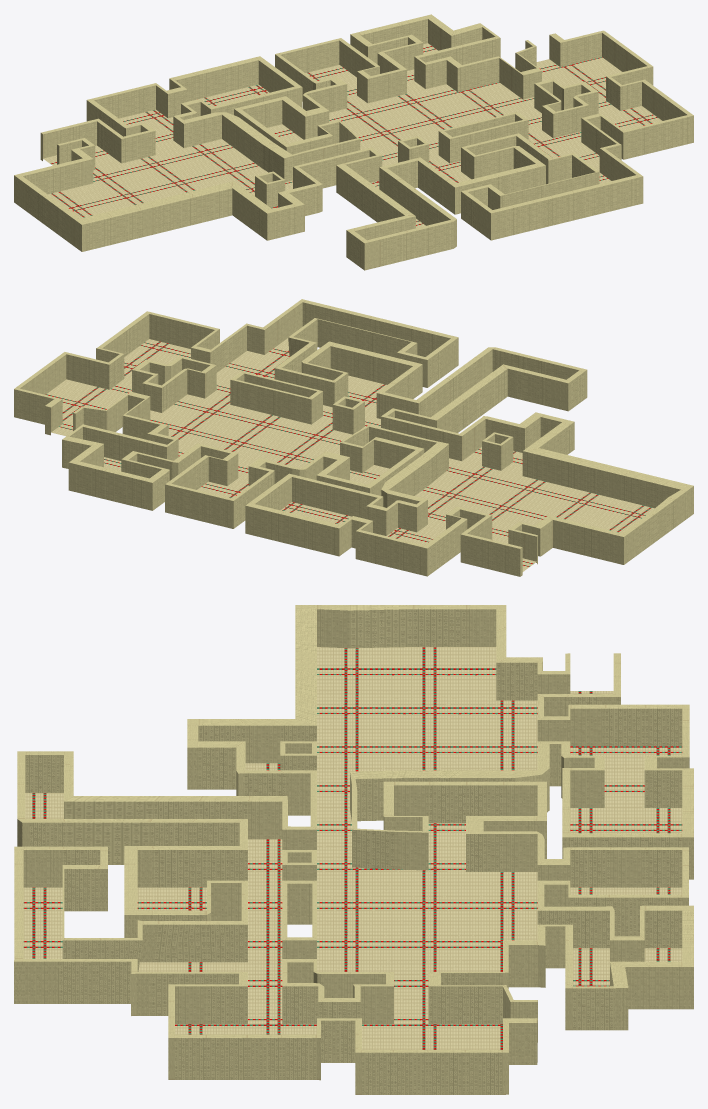
Rendered from Level1_1.fbx.
3 renders of one model, top to bottom at view 1: azimuth 30°, elevation 25°; view 2: azimuth 150°, elevation 25°; view 3: azimuth 270°, elevation 25°, orthographic. The views are drawn at different scales.
Parts seen in each view (by area): view 1: Level1_Walls, Level1_Floor; view 2: Level1_Walls, Level1_Floor; view 3: Level1_Walls, Level1_Floor.
Part boxes in pixels (x1,y1,x2,y2): Level1_Walls: [14, 14, 693, 270]; Level1_Floor: [43, 43, 661, 228]; Level1_Walls: [14, 299, 693, 576]; Level1_Floor: [45, 338, 654, 571]; Level1_Walls: [14, 605, 693, 1094]; Level1_Floor: [23, 647, 682, 1049].
Size of the model in its own units: 44.52 by 1.96 by 28.57.
Materials: 2 (2 with a texture image).
